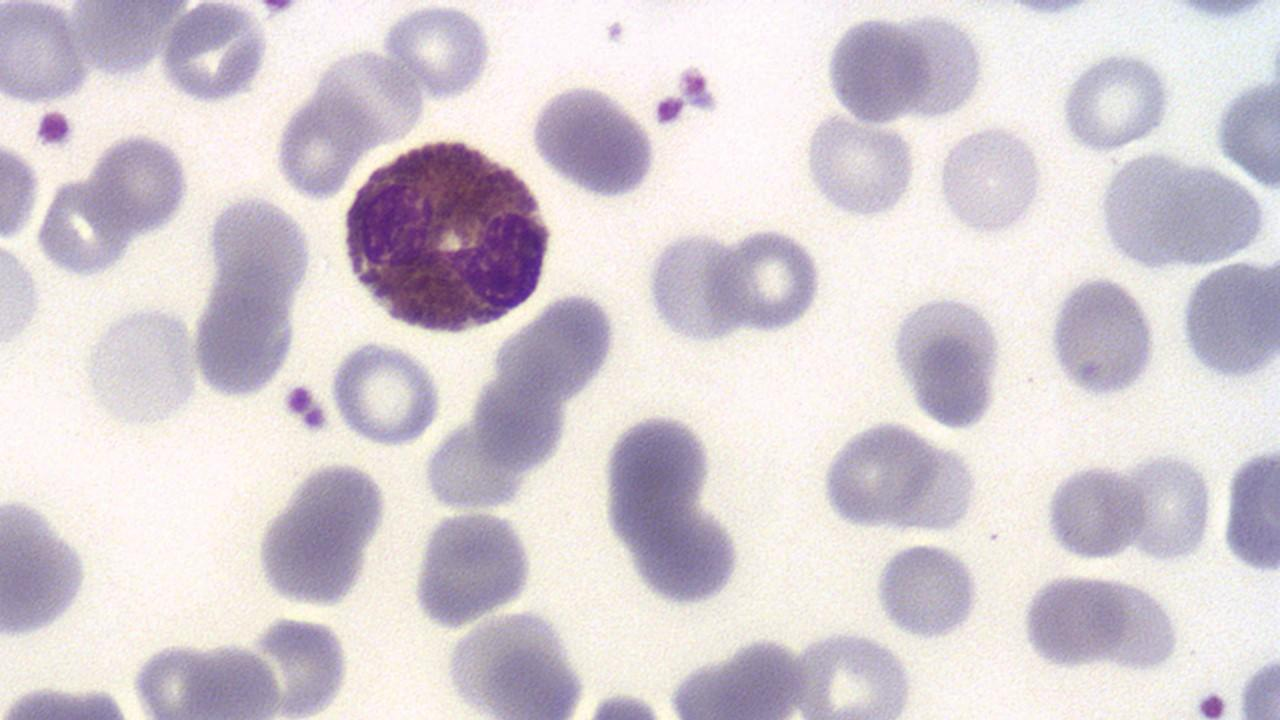Platelets: (886, 290, 1008, 434), (1041, 272, 1161, 403), (278, 382, 332, 434), (1166, 0, 1274, 25), (32, 105, 78, 153), (674, 65, 718, 115), (1004, 0, 1094, 23), (1191, 686, 1231, 720), (652, 92, 688, 129), (254, 0, 302, 16)
RBC: (526, 78, 660, 201), (80, 300, 204, 430), (816, 417, 936, 532), (819, 10, 934, 126), (642, 224, 750, 347), (934, 123, 1048, 238), (802, 111, 916, 223), (328, 340, 444, 450), (1057, 46, 1175, 154), (714, 224, 824, 336), (868, 538, 986, 642), (1016, 570, 1131, 674), (158, 3, 273, 104), (790, 625, 916, 717), (1041, 458, 1149, 562), (315, 46, 425, 146), (892, 7, 986, 124), (1121, 447, 1213, 566), (379, 4, 495, 98), (0, 2, 94, 105), (1094, 576, 1182, 677), (1211, 70, 1279, 193), (1, 237, 47, 355), (1, 132, 41, 242), (1237, 648, 1279, 714)
WBC: (720, 8, 1280, 720), (56, 0, 743, 426), (338, 132, 558, 342), (1091, 147, 1271, 274), (247, 454, 390, 612), (813, 418, 983, 536), (889, 288, 1009, 431), (526, 79, 660, 203), (406, 506, 538, 631), (1043, 271, 1161, 402), (0, 488, 95, 644), (1176, 254, 1280, 384), (822, 10, 936, 127), (156, 3, 276, 106), (1016, 570, 1130, 674), (1212, 57, 1280, 196), (1220, 438, 1280, 578)
